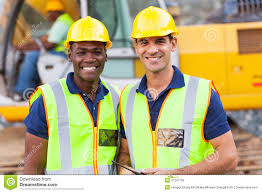helmet: (129, 6, 180, 38), (67, 19, 114, 45)
vest: (127, 85, 232, 175), (38, 83, 121, 174)
